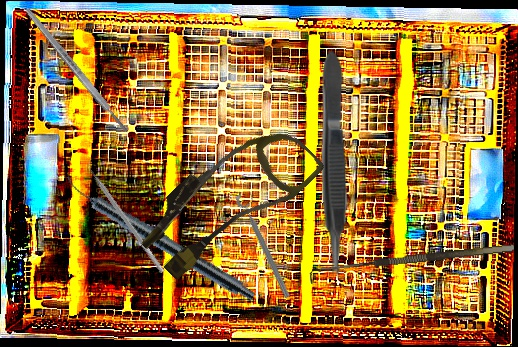Cannula: (130, 102, 326, 297)
Fixation Ring: (234, 189, 299, 300)
Handpiece: (59, 172, 260, 305)
Hook Surgical: (308, 244, 516, 284)
Scalpel Handle: (23, 6, 130, 134)
Spatula Surgical: (81, 157, 170, 274)
Tissue Forceps: (320, 51, 348, 279)
